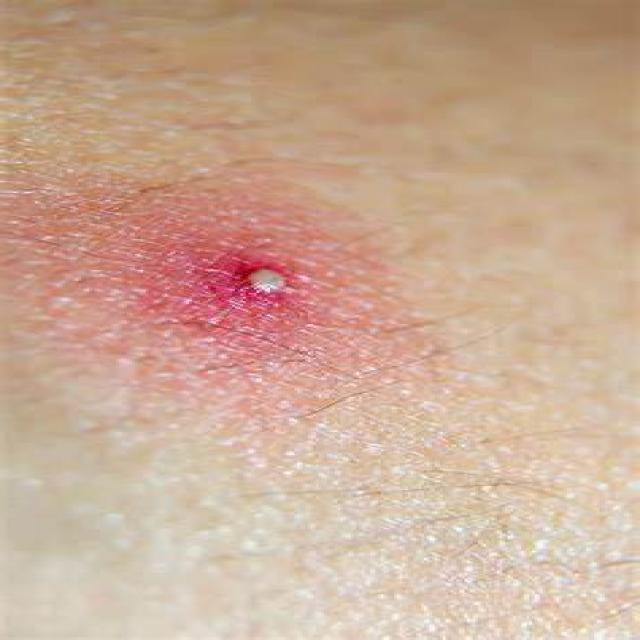pustule: (152, 227, 365, 335)
